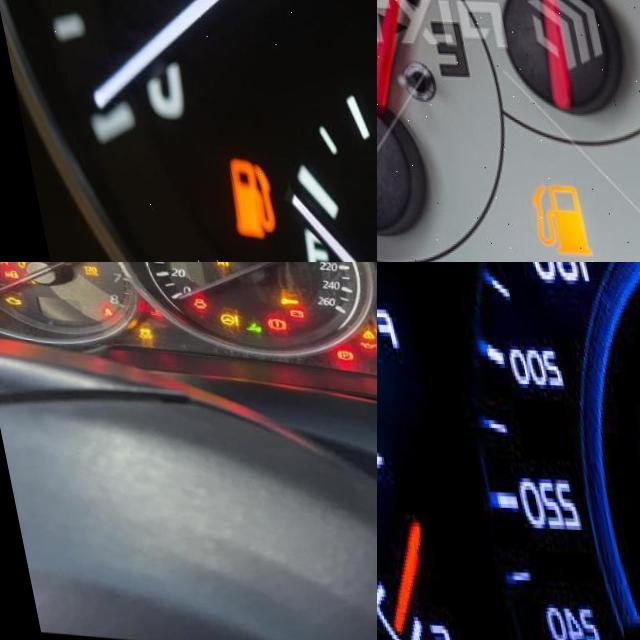Electronic Power Steering: (207, 310, 228, 324)
High Engine Coolant Temperature: (138, 305, 149, 314)
Seat Belt: (90, 305, 101, 317)
